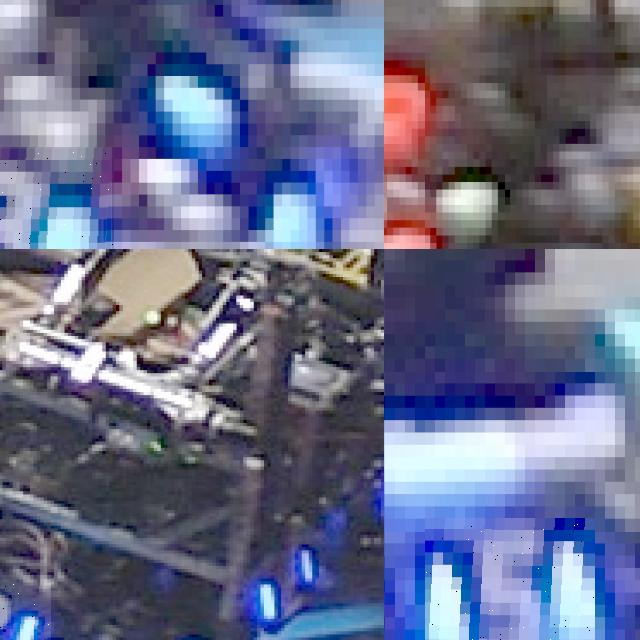B2: (0, 575, 50, 640)
B3: (0, 147, 113, 249)
B5: (425, 518, 595, 640)
R5: (384, 128, 436, 249)
